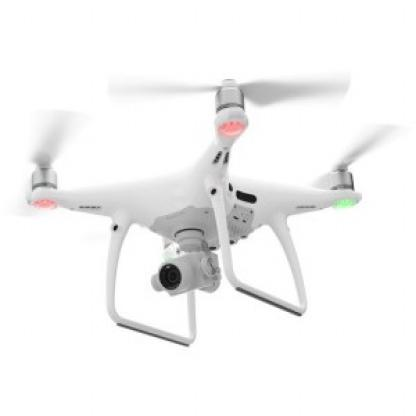drone: (18, 79, 402, 275)
